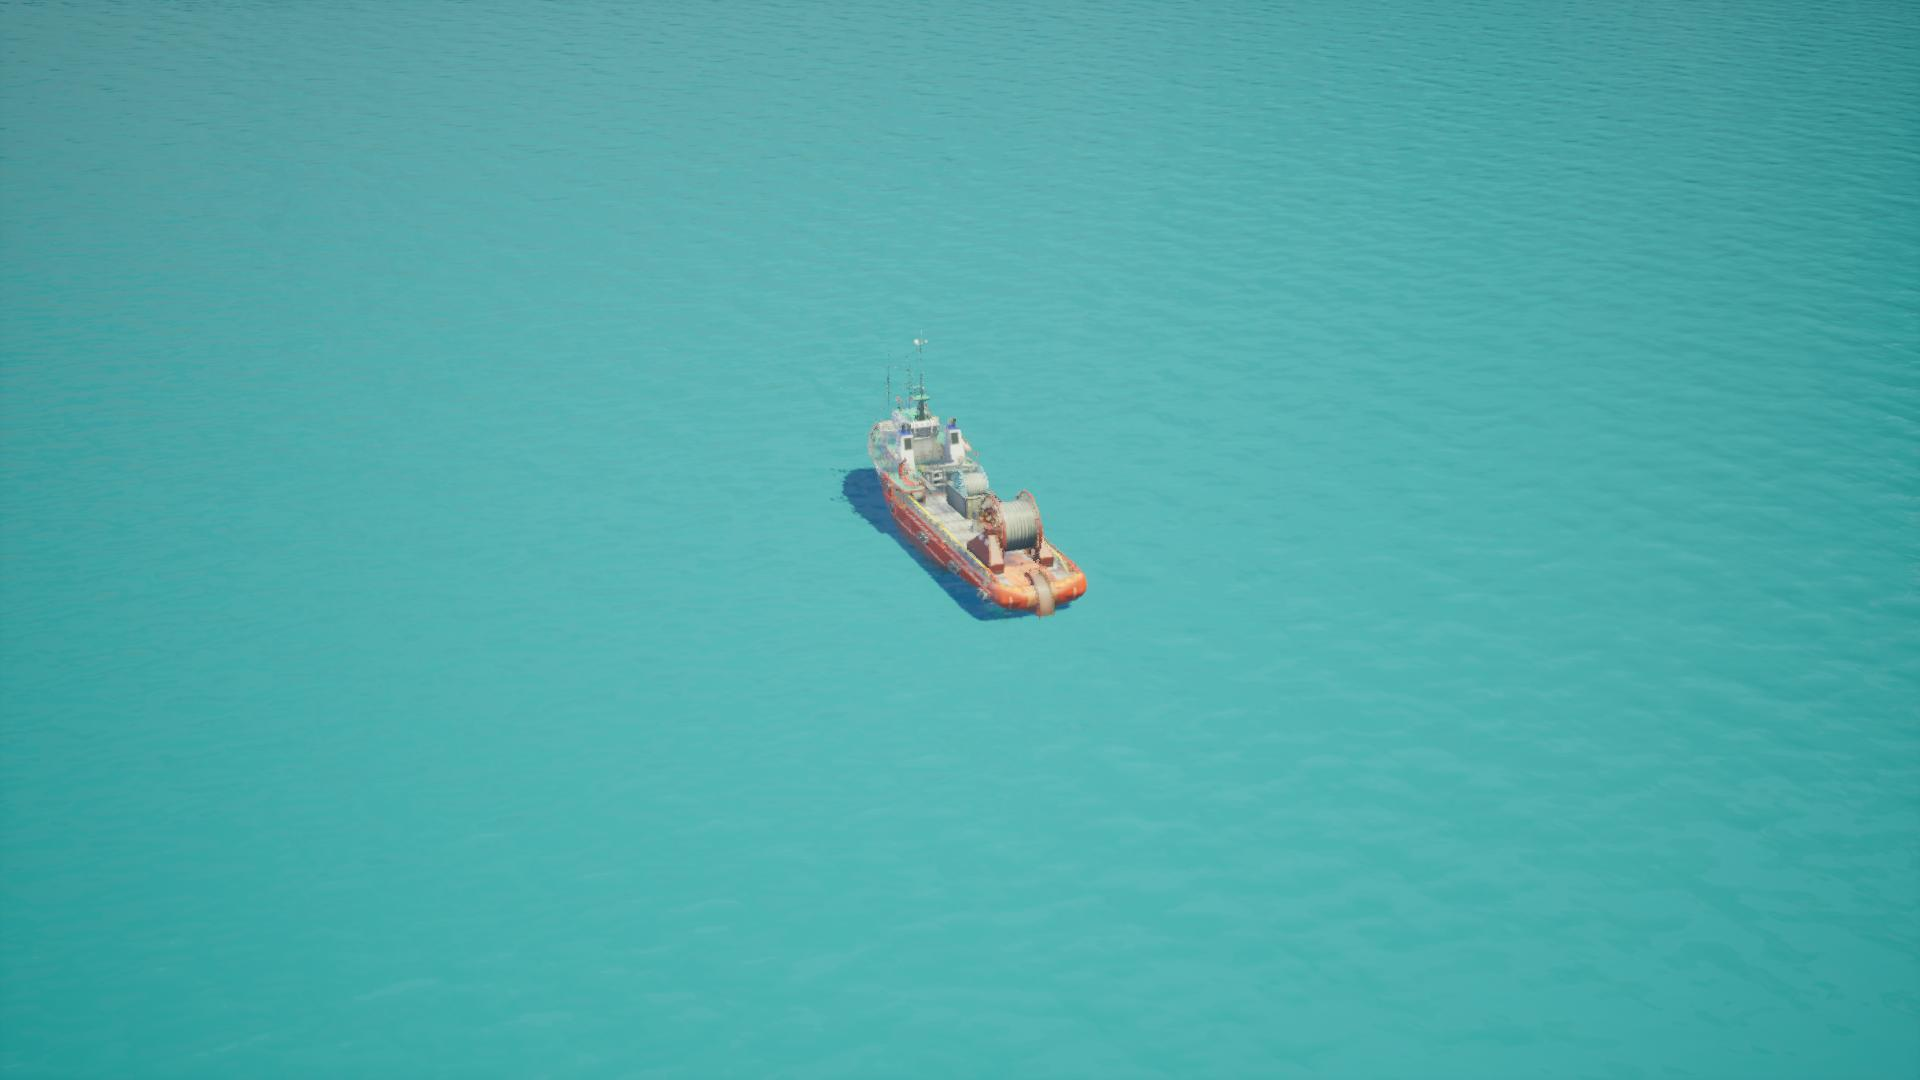Tug Boat: (852, 326, 1030, 626)
